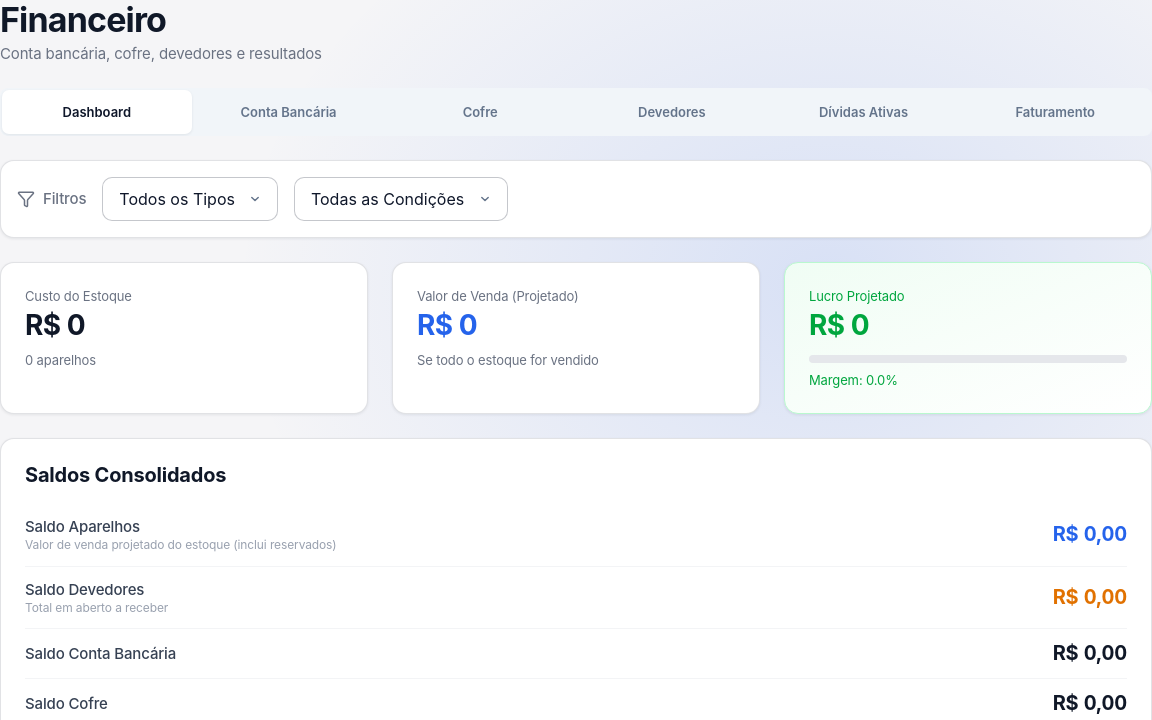
Test: Finance page resilience › counts trade-in value as gross revenue and customer payment total
Click the button "Faturamento": click(1055, 112) [960,90,1150,134]
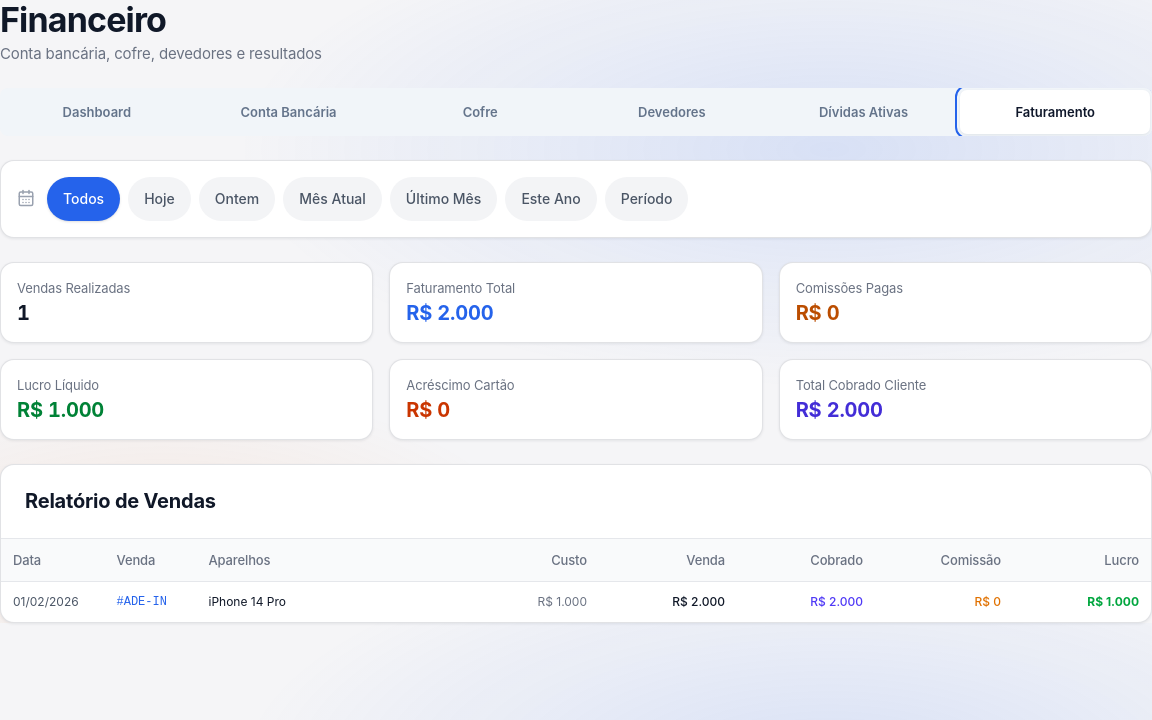
Expected: the text "Faturamento Total" is shown, [406,280,515,296]
Expected: the heading "R$ 2.000" below "Faturamento Total" is shown, [406,301,493,325]
Expected: the heading "R$ 1.000" is shown, [17,398,104,422]
